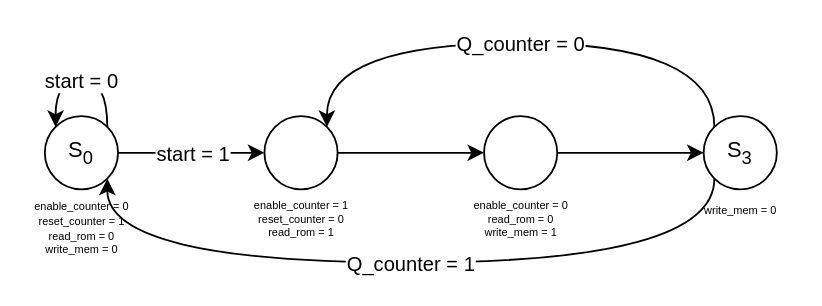
Image size: 822x306. Some labels were removed from this diagram. The shapes that lost their labels are listed below. From the top down, each one's centre as x and y in pixels, then its label:
(x=300, y=151): S 1
(x=519, y=151): S 2
